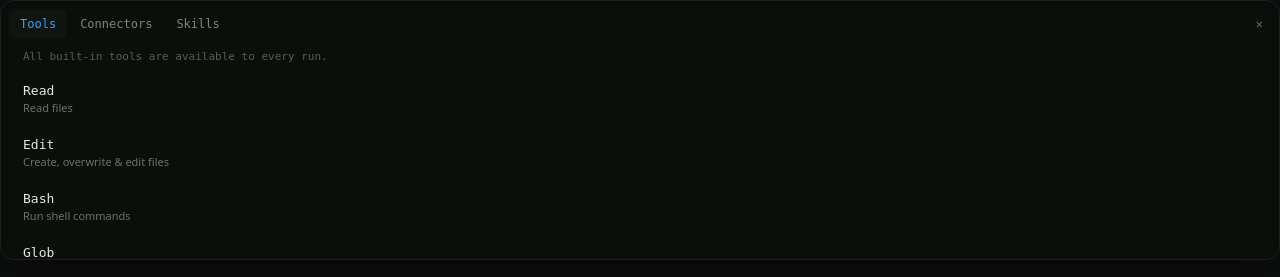
Test: SkillsPopover (read-only capability display) › shows an empty state when the host has no connectors
Click the button "Connectors".
click(116, 24)  # box [69,9,163,39]
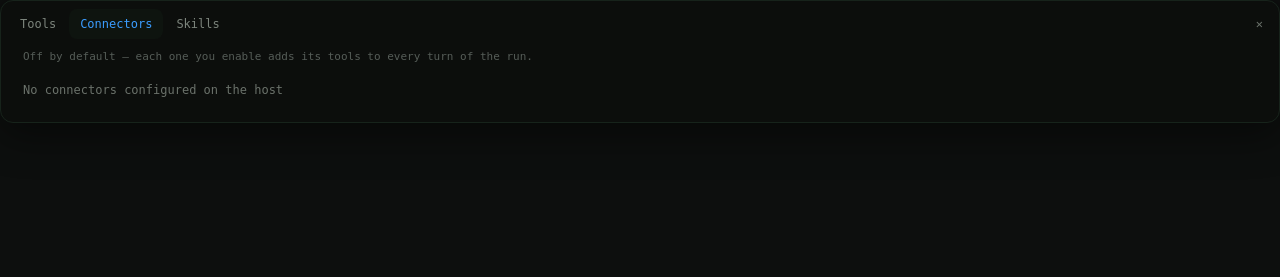
Expected: the text with test id "cap-empty" shows "No connectors configured", [23,82,283,96]
